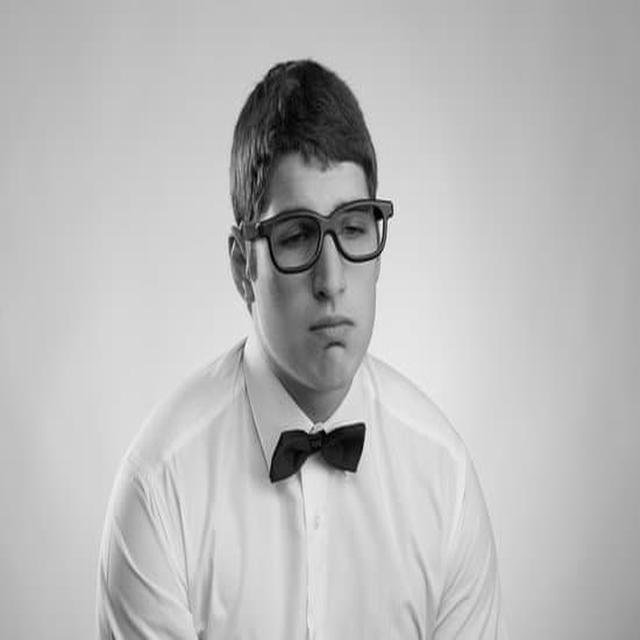Sadness: (268, 162, 376, 393)
